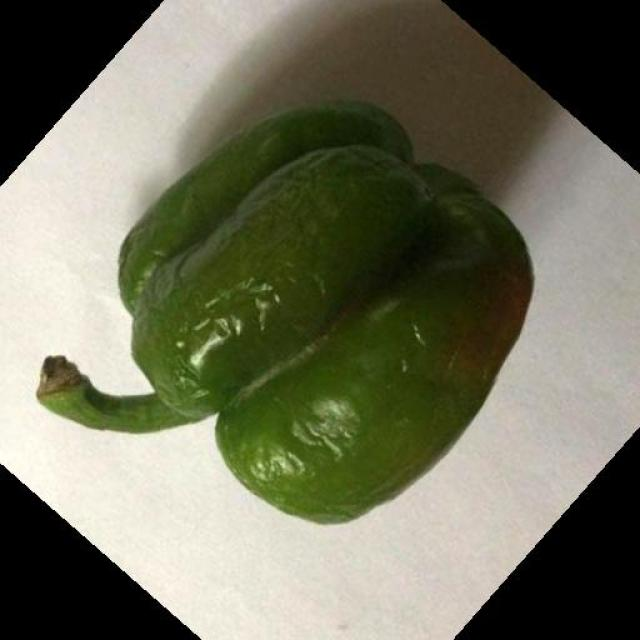Stale_Capsicum: (84, 78, 536, 500)
